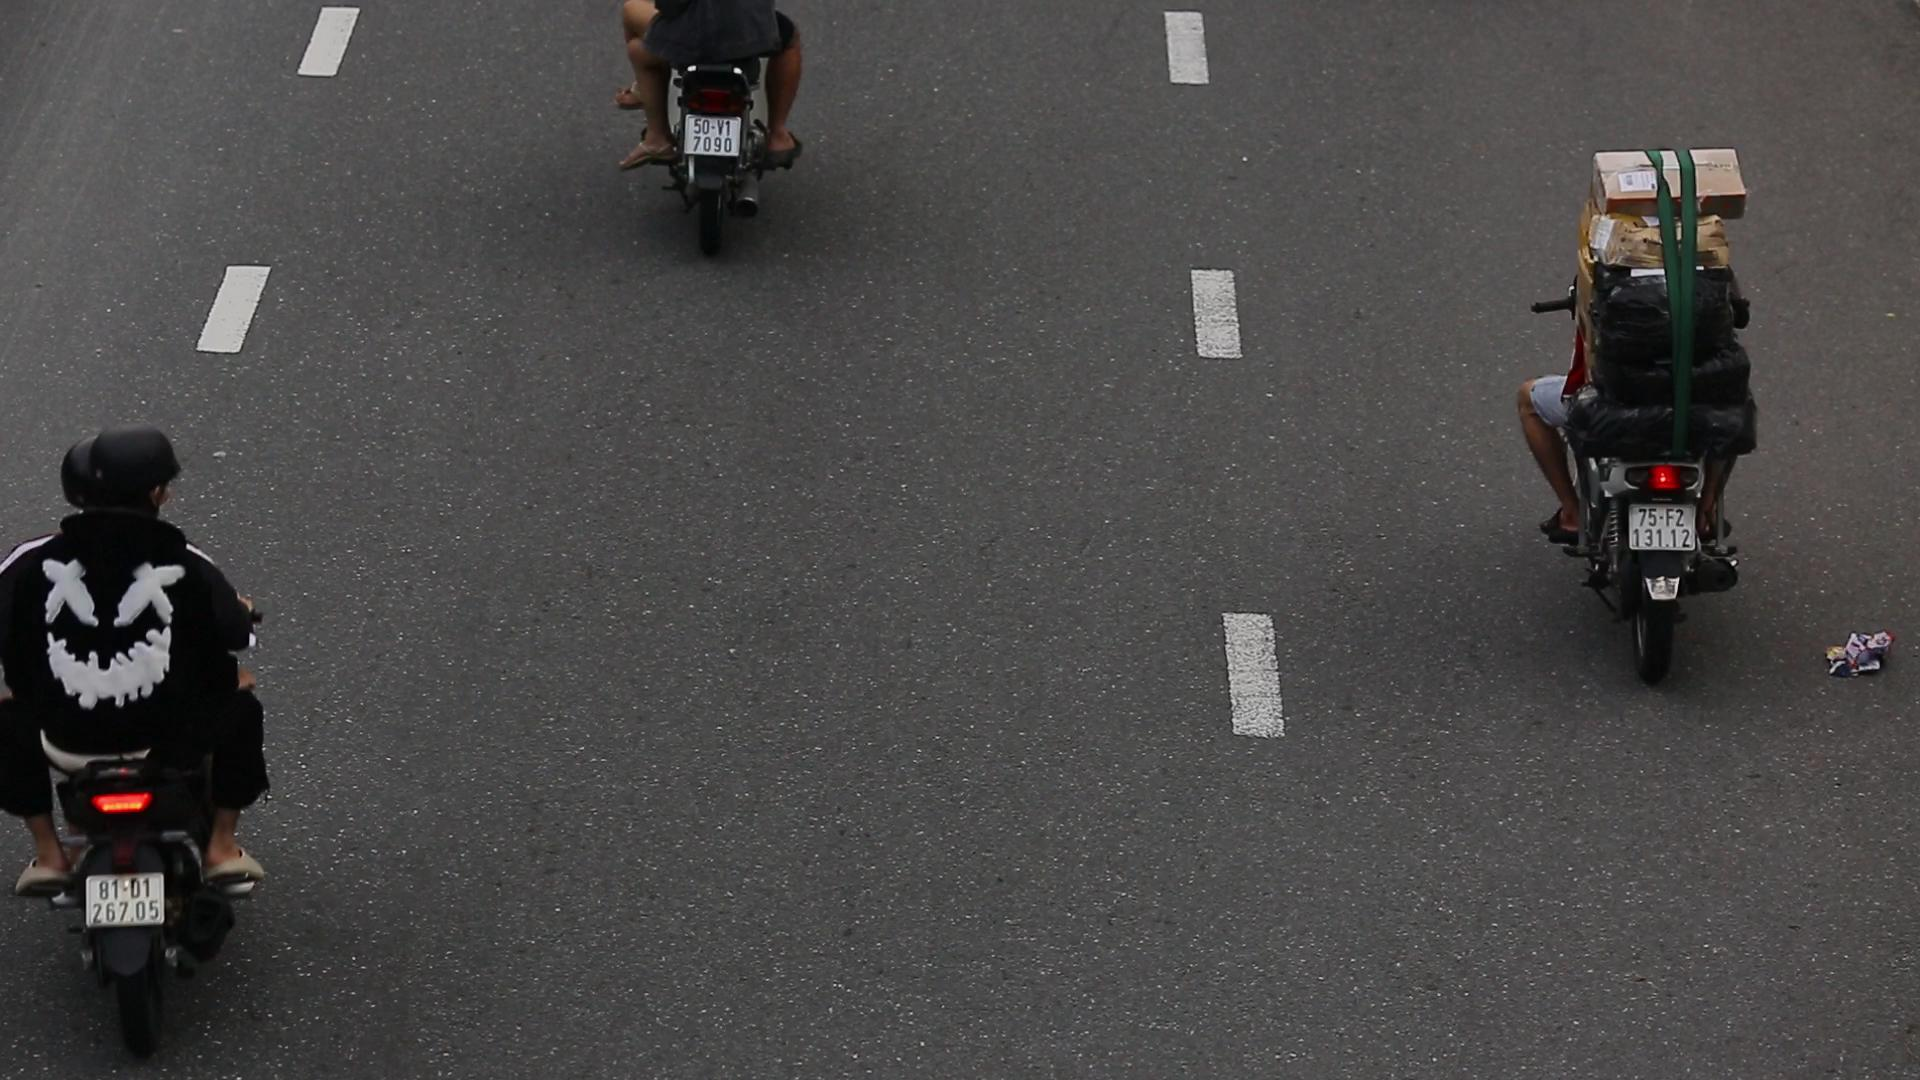motobike: (0, 405, 286, 1073)
